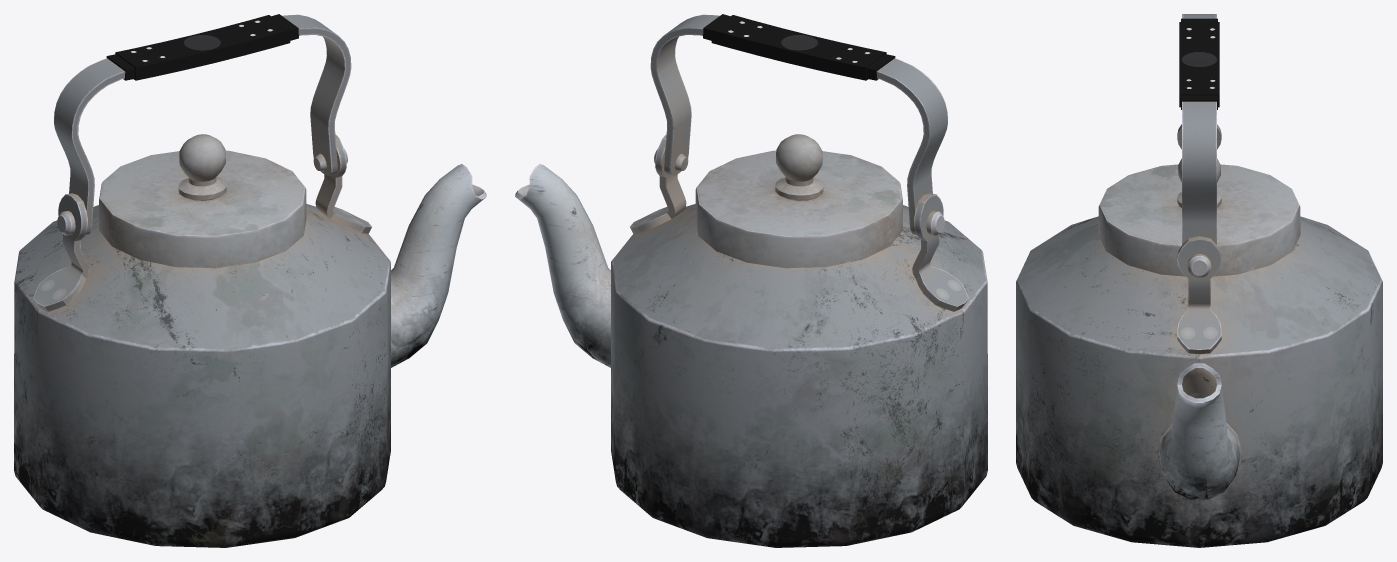
File: teapot-second.glb
3 renders of one model, left to right at view 1: azimuth 30°, elevation 25°; view 2: azimuth 150°, elevation 25°; view 3: azimuth 270°, elevation 25°, orthographic. The views are drawn at different scales.
Parts seen in each view (by area): view 1: Sphere001; view 2: Sphere001; view 3: Sphere001.
Boxes of the visible parts, x1,y1,x2,y2 form: Sphere001: [14, 14, 486, 547]; Sphere001: [515, 14, 987, 547]; Sphere001: [1016, 14, 1382, 547].
Size of the model in its own units: 21.44 by 19.8 by 15.79.
Materials: 1 (1 with a texture image).
